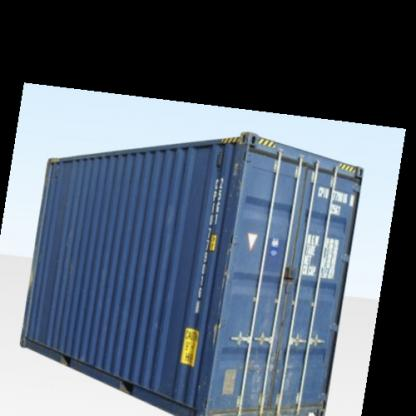Damage: (204, 235, 240, 341), (246, 351, 292, 412), (219, 145, 253, 201)
